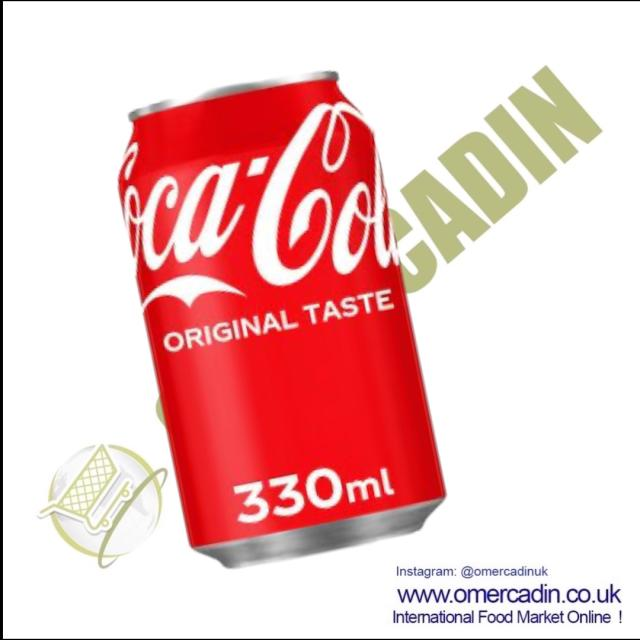cocacola: (120, 57, 448, 564)
